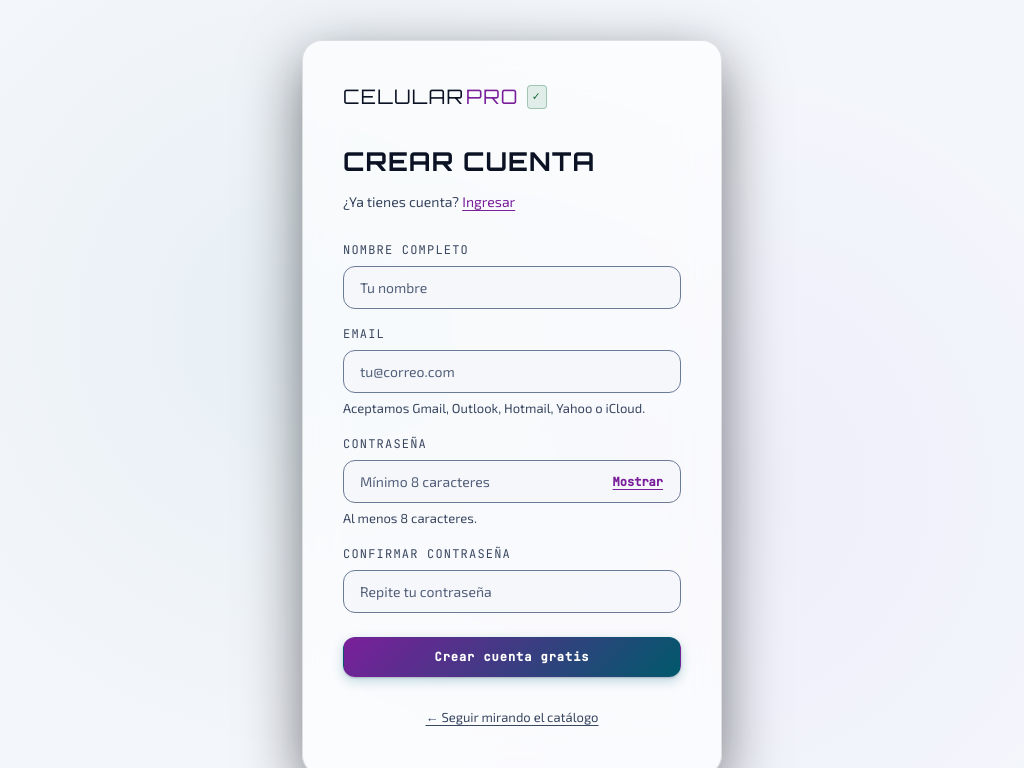
Scenario: Registro — POST /auth/register › datos correctos → 201, guarda la sesión sin la contraseña y entra al panel del usuario
Type "Mario Andrade" into the field labelled "Nombre completo" at (512, 288), box [343, 266, 681, 309]
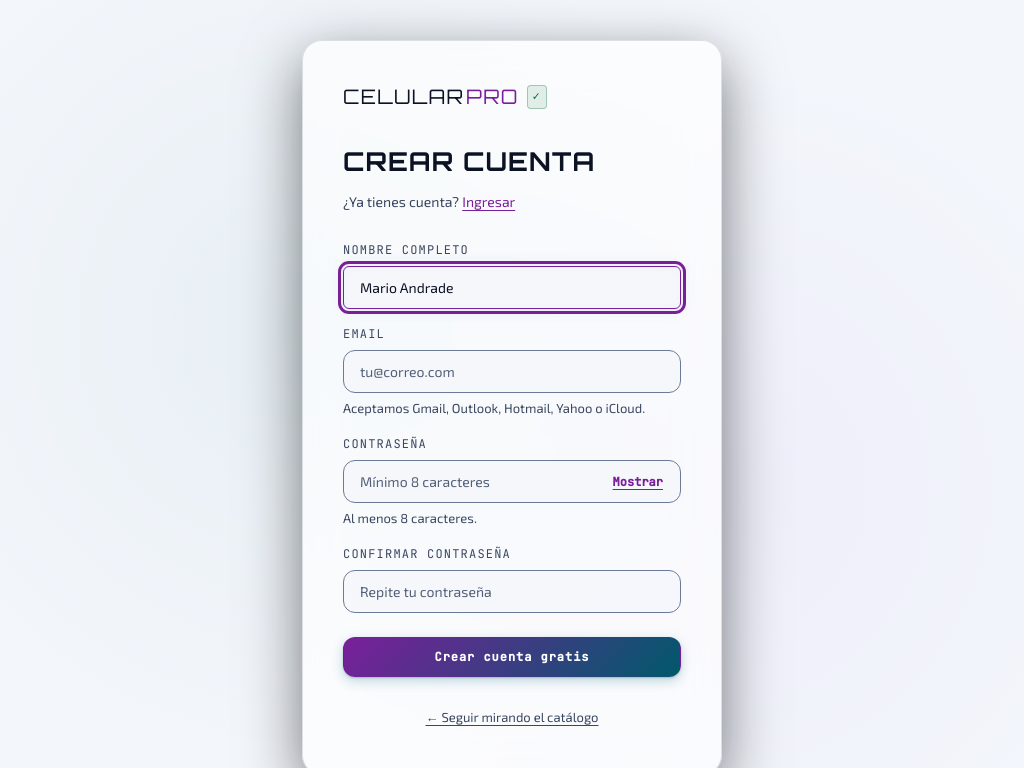
Type "  Mario@Gmail.com " into the field labelled "Email" at (512, 372), box [343, 350, 681, 393]
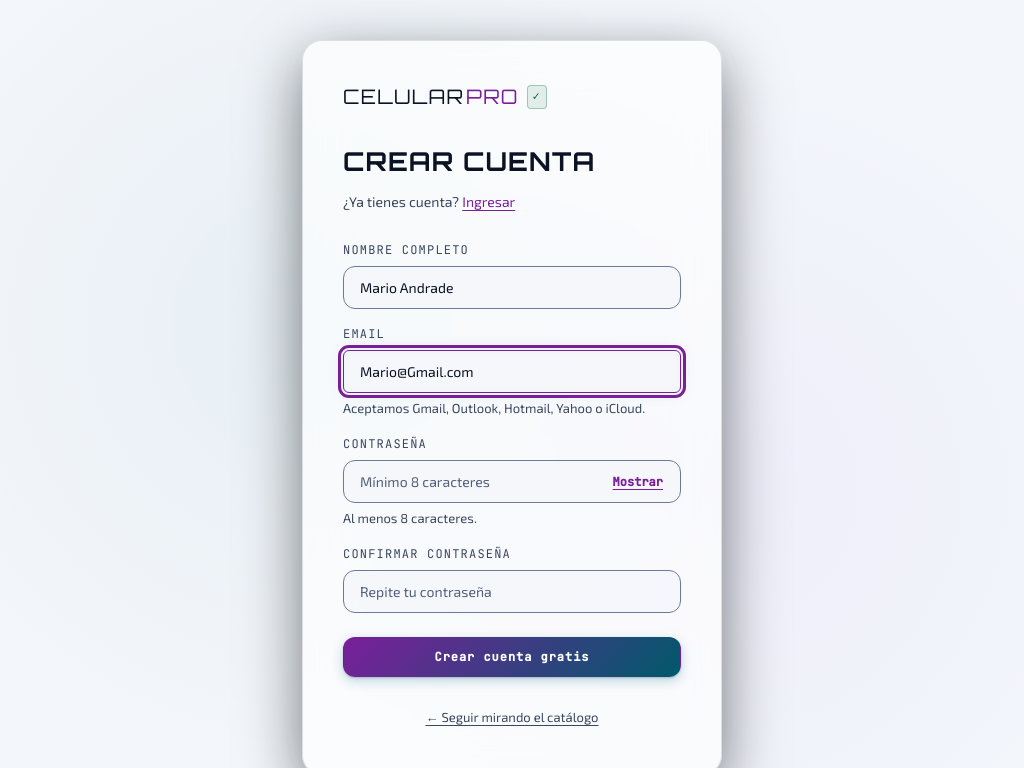
Type "clave-segura-123" into the password field labelled "Contraseña" at (512, 482), box [343, 460, 681, 503]
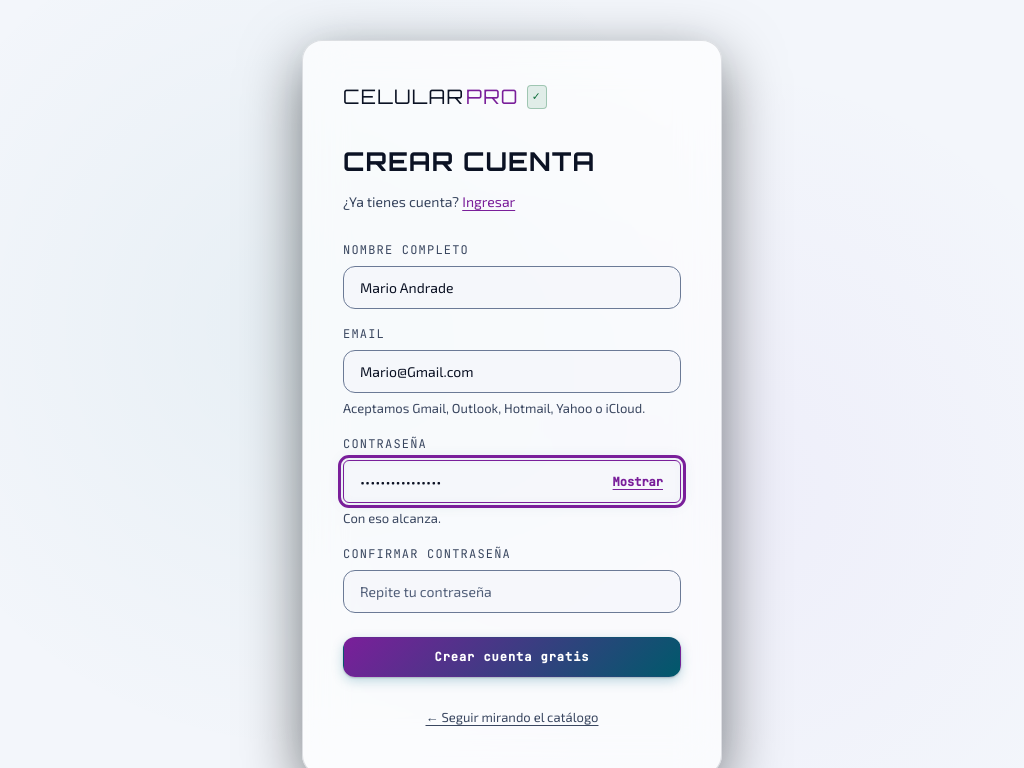
Type "clave-segura-123" into the password field labelled "Confirmar contraseña" at (512, 591), box [343, 570, 681, 613]
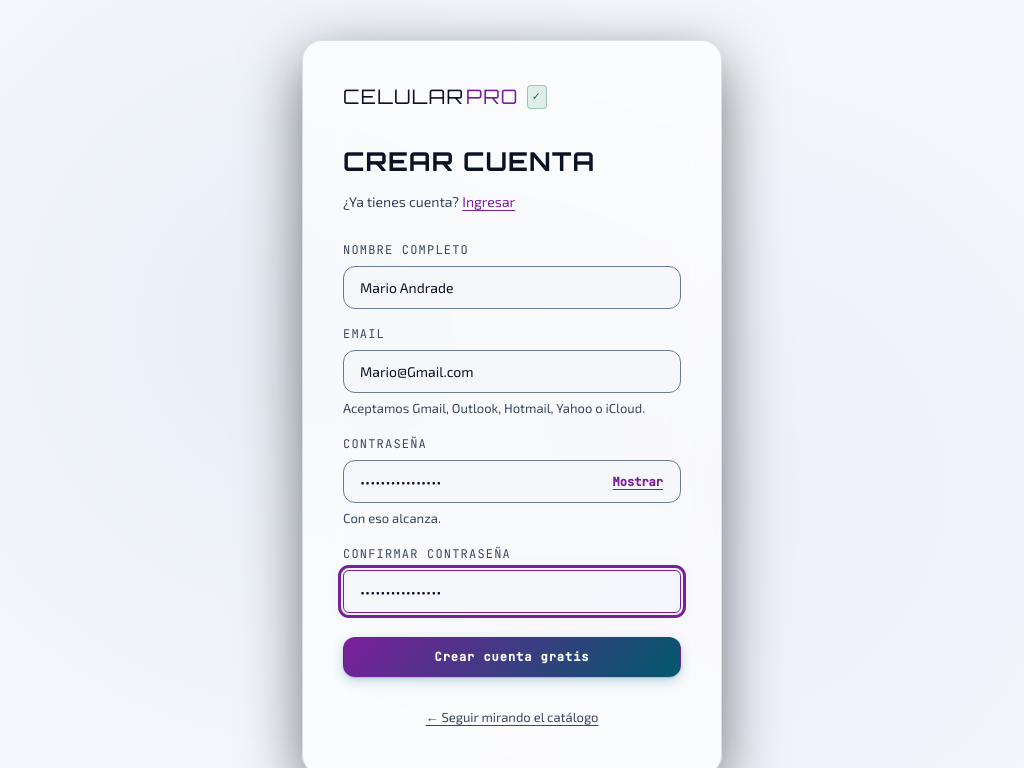
Click the button "Crear cuenta gratis" at (512, 657), box [343, 637, 681, 677]
(page scrolled)
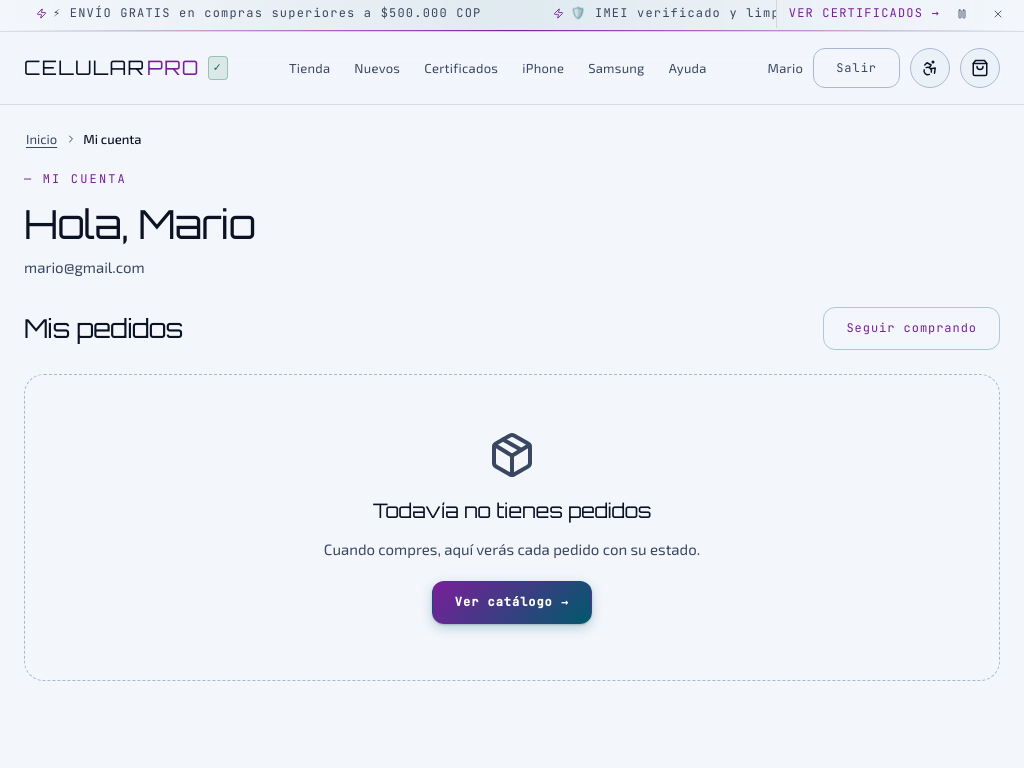
Expected: the heading "Hola, Mario" is shown, [24, 199, 255, 249]
